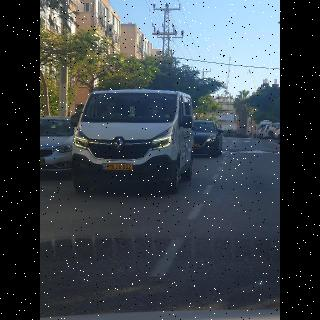LicensePlate: (106, 164, 133, 170)
